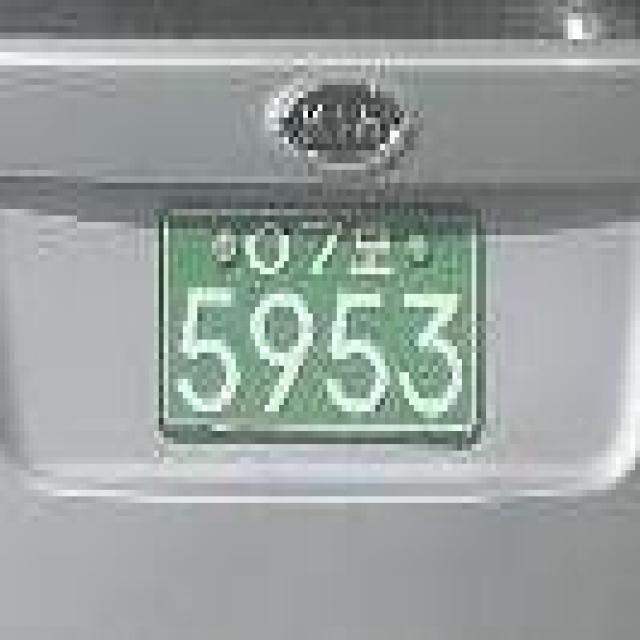illegal_plate: (145, 188, 500, 468)
